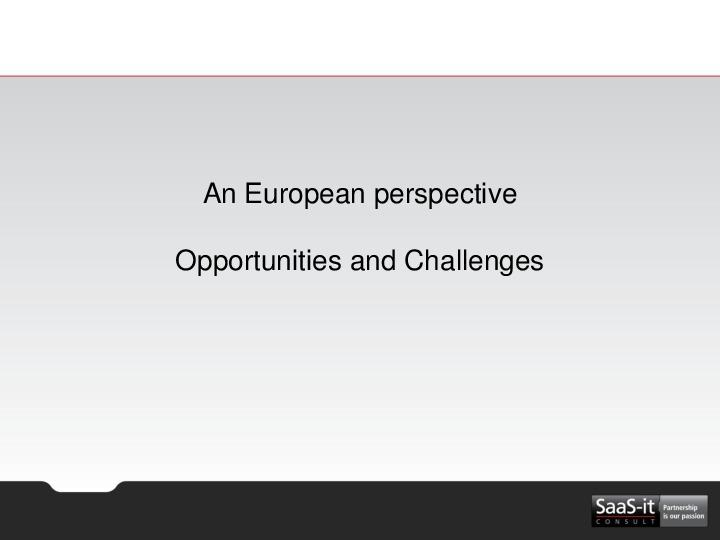title: (152, 168, 576, 305)
